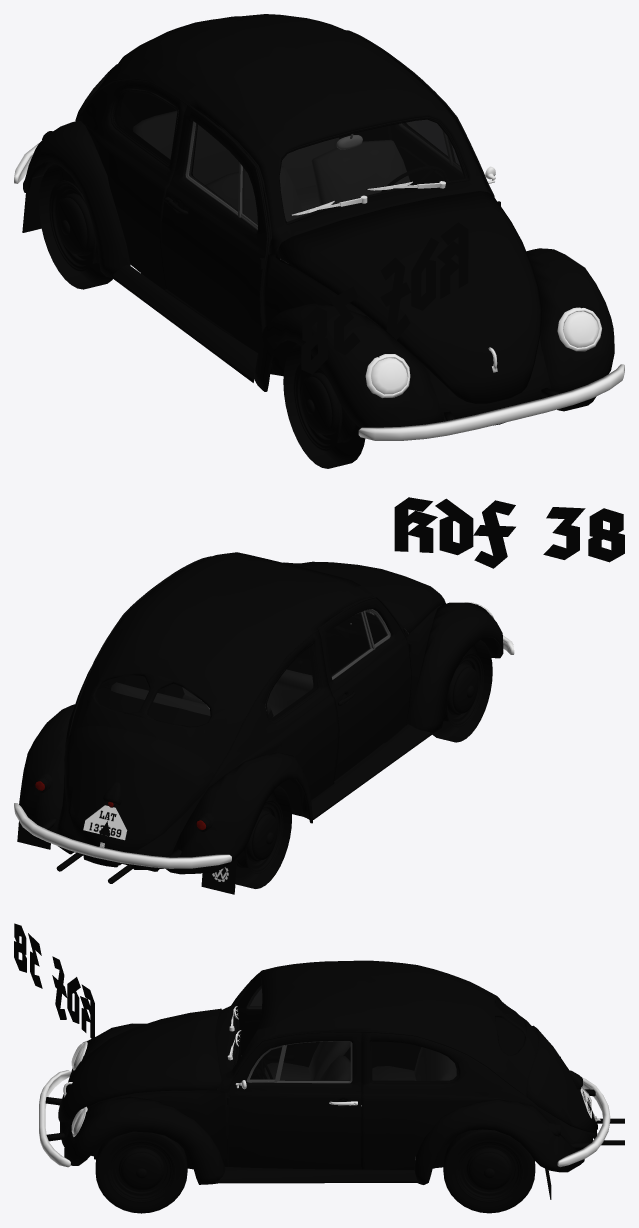
Rendered from ready ish kdf.fbx.
3 views of the same model, one above another, from view 1: azimuth 30°, elevation 25°; view 2: azimuth 150°, elevation 25°; view 3: azimuth 270°, elevation 25° (orthographic). The views are drawn at different scales.
Visible parts, largest first — view 1: Main.001, Front, Main.002, Door_R, Main.006, Text, Main.004, Cylinder.002, Cylinder.003, Main.007, Door_L, Cube.003; view 2: Main.001, Main.002, Rear, Main.004, Door_R, Text, Main.006, Front, Cylinder.002, Cylinder.003, Cube.002, Cube.003; view 3: Main.001, Door_L, Main.002, Front, Main.006, Cylinder.001, Cylinder, Main.004, Rear, Text, Door_R, Main.007.
Boxes of the visible parts, box(x1,y1,x2,y2) form: Main.001: box(79, 14, 550, 425); Front: box(278, 191, 542, 403); Main.002: box(14, 30, 624, 440); Door_R: box(161, 104, 271, 352); Main.006: box(255, 248, 614, 428); Text: box(301, 222, 468, 374); Main.004: box(23, 121, 130, 277); Cylinder.002: box(283, 344, 365, 468); Cylinder.003: box(38, 164, 112, 289); Main.007: box(365, 307, 601, 398); Door_L: box(390, 120, 500, 205); Cube.003: box(22, 175, 43, 232); Main.001: box(56, 552, 441, 869); Main.002: box(14, 556, 514, 883); Rear: box(64, 725, 215, 852); Main.004: box(19, 704, 312, 874); Door_R: box(317, 597, 411, 783); Text: box(394, 497, 624, 568); Main.006: box(283, 562, 503, 732); Front: box(291, 561, 445, 632); Cylinder.002: box(432, 640, 492, 742); Cylinder.003: box(235, 786, 291, 888); Cube.002: box(83, 805, 127, 840); Cube.003: box(201, 858, 237, 894); Main.001: box(60, 960, 597, 1169); Door_L: box(228, 1032, 361, 1169); Main.002: box(39, 961, 624, 1183); Front: box(58, 1008, 221, 1122); Main.006: box(64, 1023, 225, 1184); Cylinder.001: box(443, 1129, 535, 1213); Cylinder: box(95, 1131, 187, 1213); Main.004: box(414, 1099, 584, 1184); Rear: box(526, 1025, 600, 1132); Text: box(14, 923, 94, 1041); Door_R: box(238, 979, 350, 1078); Main.007: box(71, 1041, 87, 1136).
Size of the model in its own units: 910 by 617 by 1820.
